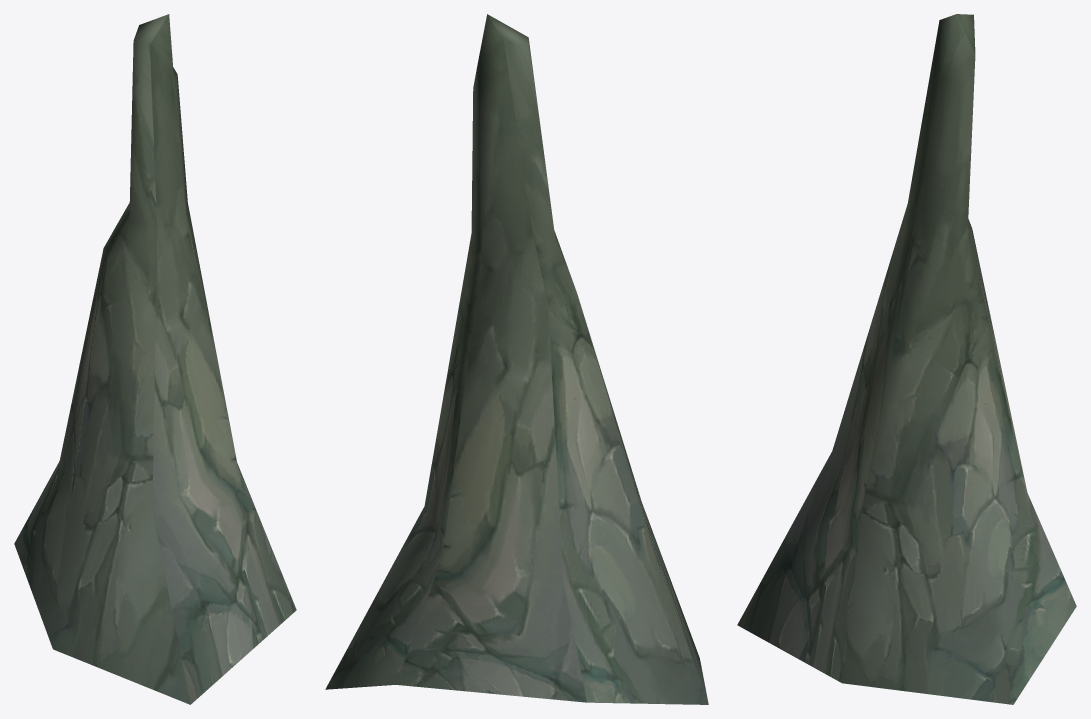
File: DN_lv2_hsstone03.FBX
3 views of the same model, side by side, from view 1: azimuth 30°, elevation 25°; view 2: azimuth 150°, elevation 25°; view 3: azimuth 270°, elevation 25° (orthographic). The views are drawn at different scales.
Parts seen in each view (by area): view 1: DN_lv2_hsstone03; view 2: DN_lv2_hsstone03; view 3: DN_lv2_hsstone03.
Boxes of the visible parts, x1=… form: DN_lv2_hsstone03: x1=14, y1=14, x2=296, y2=704; DN_lv2_hsstone03: x1=325, y1=14, x2=708, y2=704; DN_lv2_hsstone03: x1=737, y1=14, x2=1076, y2=704.
Bounding box in the file's own units: 650 × 1415 × 667.
